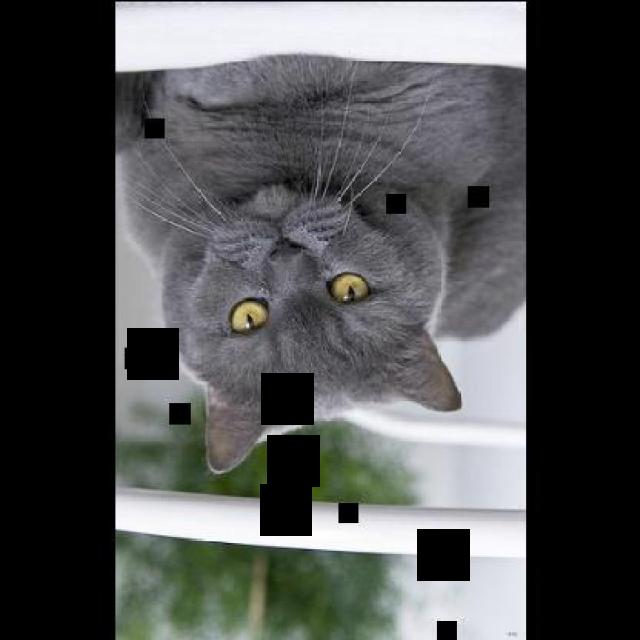unauthorized: (116, 51, 526, 475)
